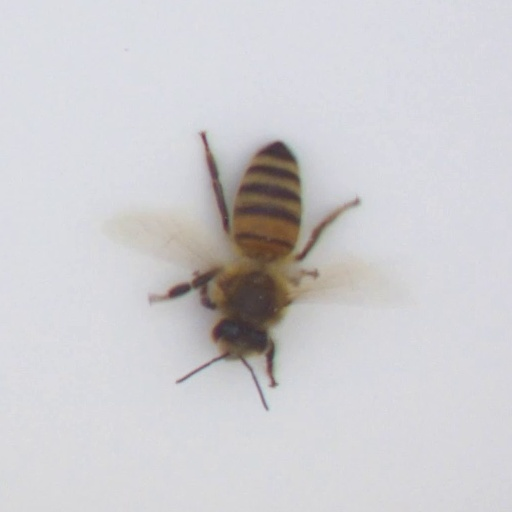Bee: (211, 146, 298, 349)
Thorax: (221, 270, 283, 317)
